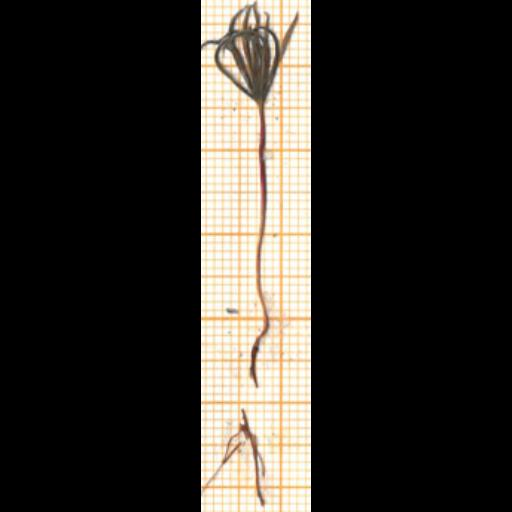flowerPinus: (209, 1, 285, 105)
rootPinus: (249, 325, 269, 388)
stemPinus: (256, 103, 269, 321)
